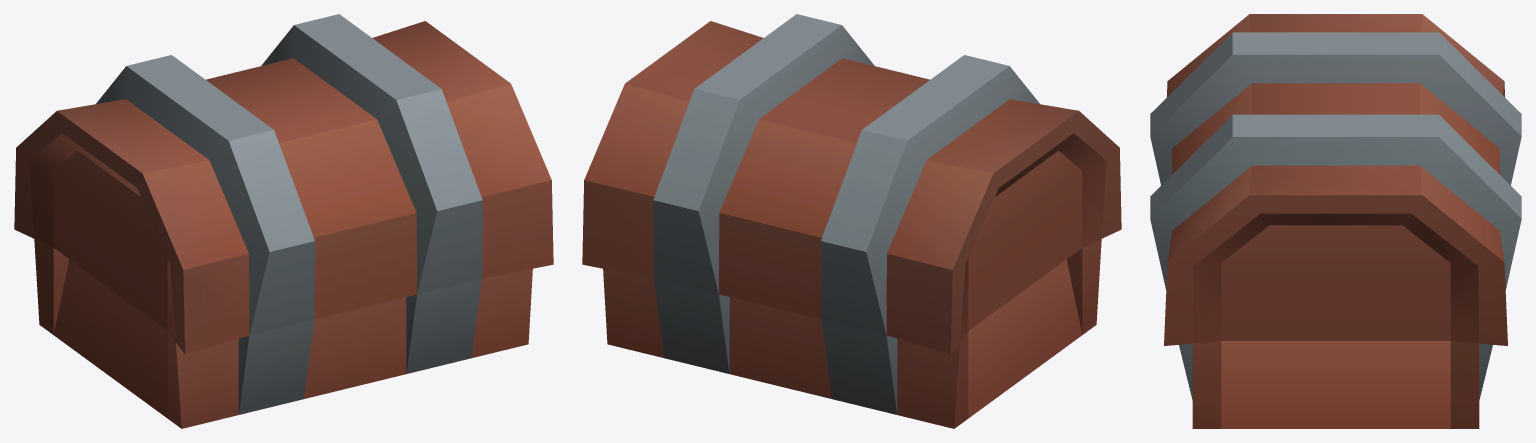
File: trunk_large_A.glb
3 views of the same model, side by side, from view 1: azimuth 30°, elevation 25°; view 2: azimuth 150°, elevation 25°; view 3: azimuth 270°, elevation 25° (orthographic).
Parts seen in each view (by area): view 1: trunk_large_A; view 2: trunk_large_A; view 3: trunk_large_A.
Boxes of the visible parts, bbox=[...] form: trunk_large_A: bbox=[14, 14, 553, 428]; trunk_large_A: bbox=[582, 14, 1121, 428]; trunk_large_A: bbox=[1150, 14, 1521, 428].
Bounding box in the file's own units: 1.5 × 1 × 1.3.
1 material, 1 textured.
